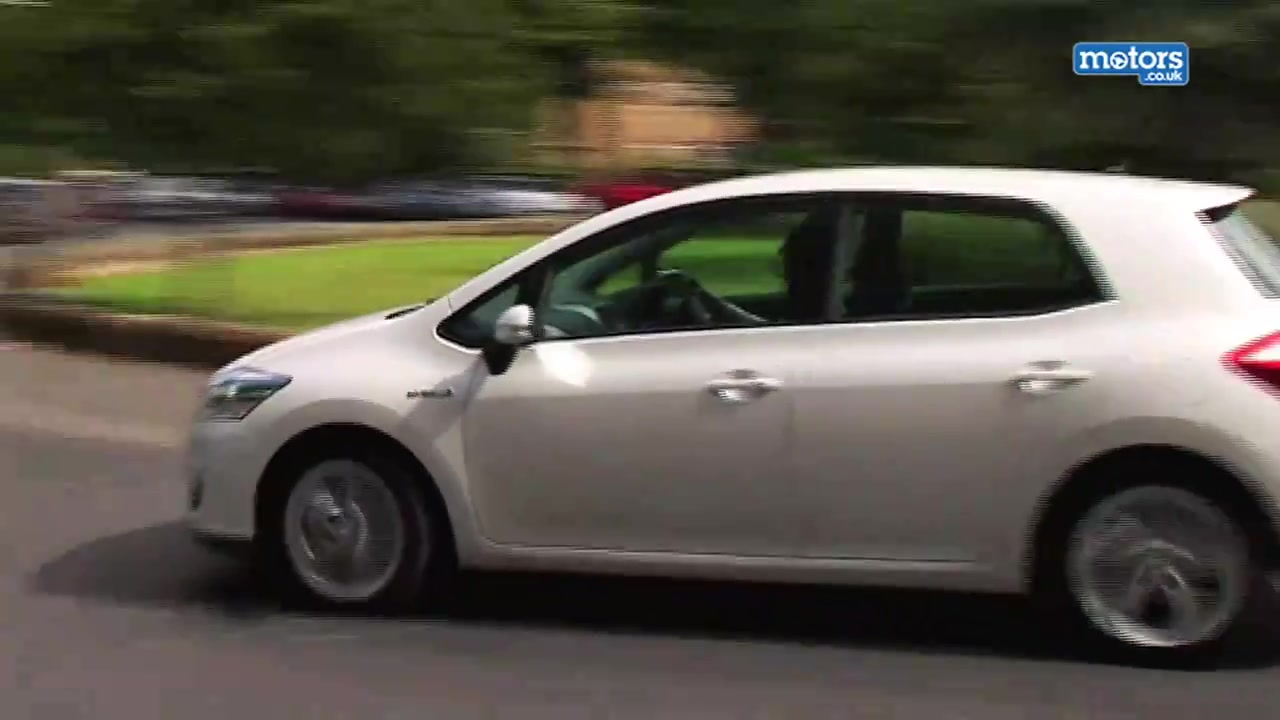car: (190, 171, 1280, 676)
